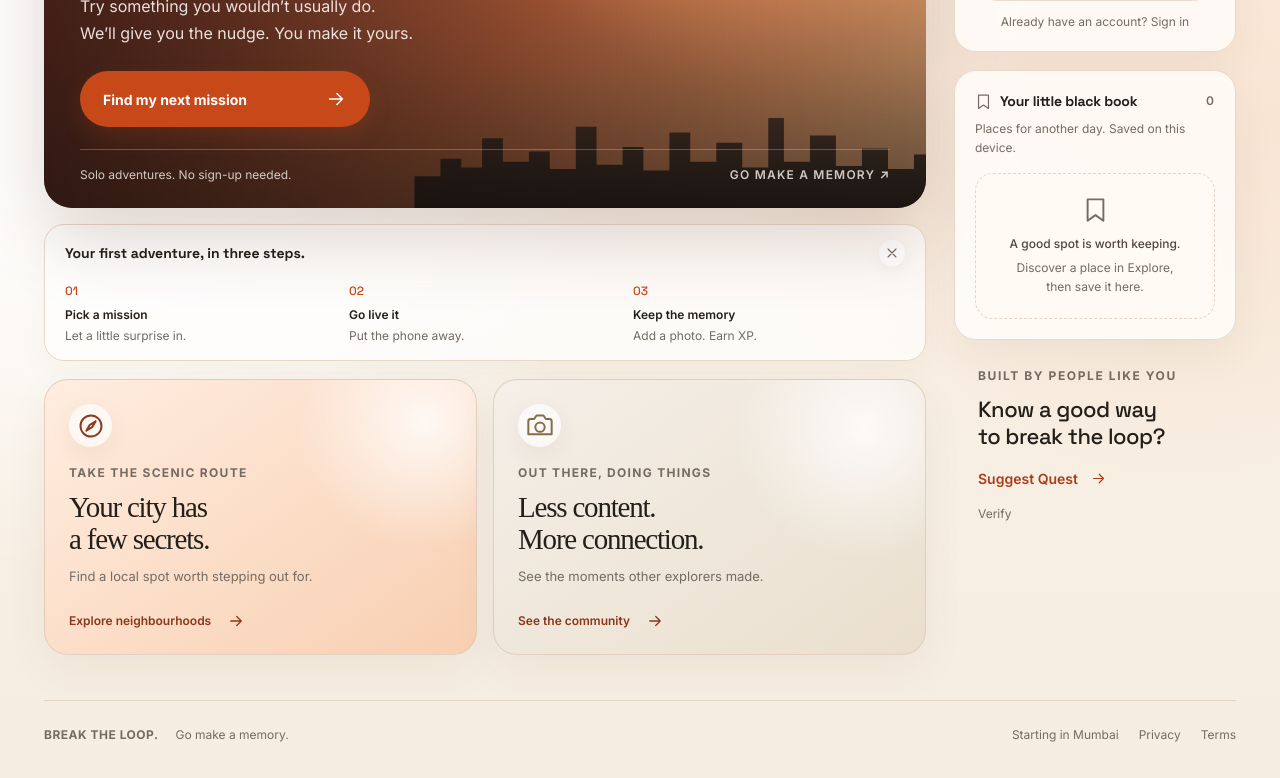
email OTP sign-in (main Auth Modal) › verifies a 6-digit code and signs the user in with their real email
The image size is (1280, 778).
(page scrolled)
Click the button "Verify". click: (1095, 508)
box: top-left (978, 493), bottom-right (1212, 523)
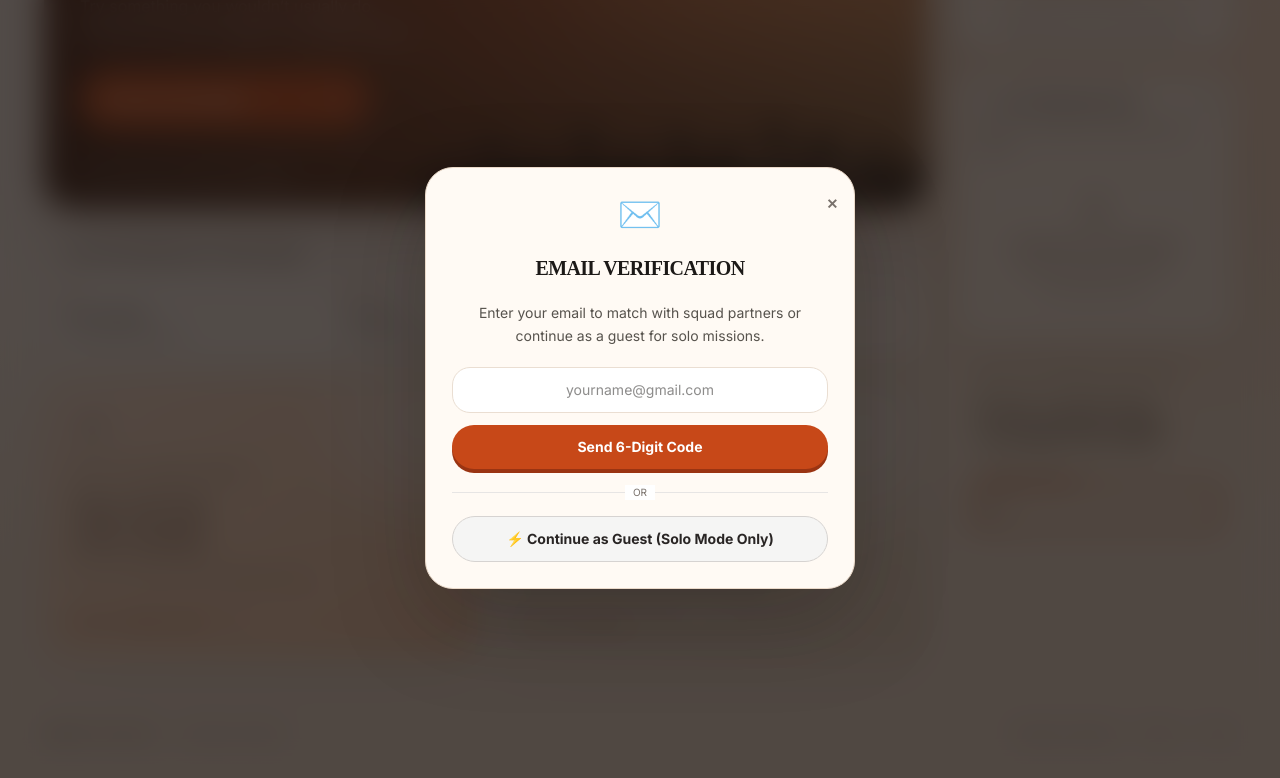
Result: the heading "EMAIL VERIFICATION" is shown at top-left (536, 257), bottom-right (745, 279)
Type "player@example.com" into the field with placeholder "yourname@gmail.com". click: (640, 390)
box: top-left (452, 367), bottom-right (828, 413)
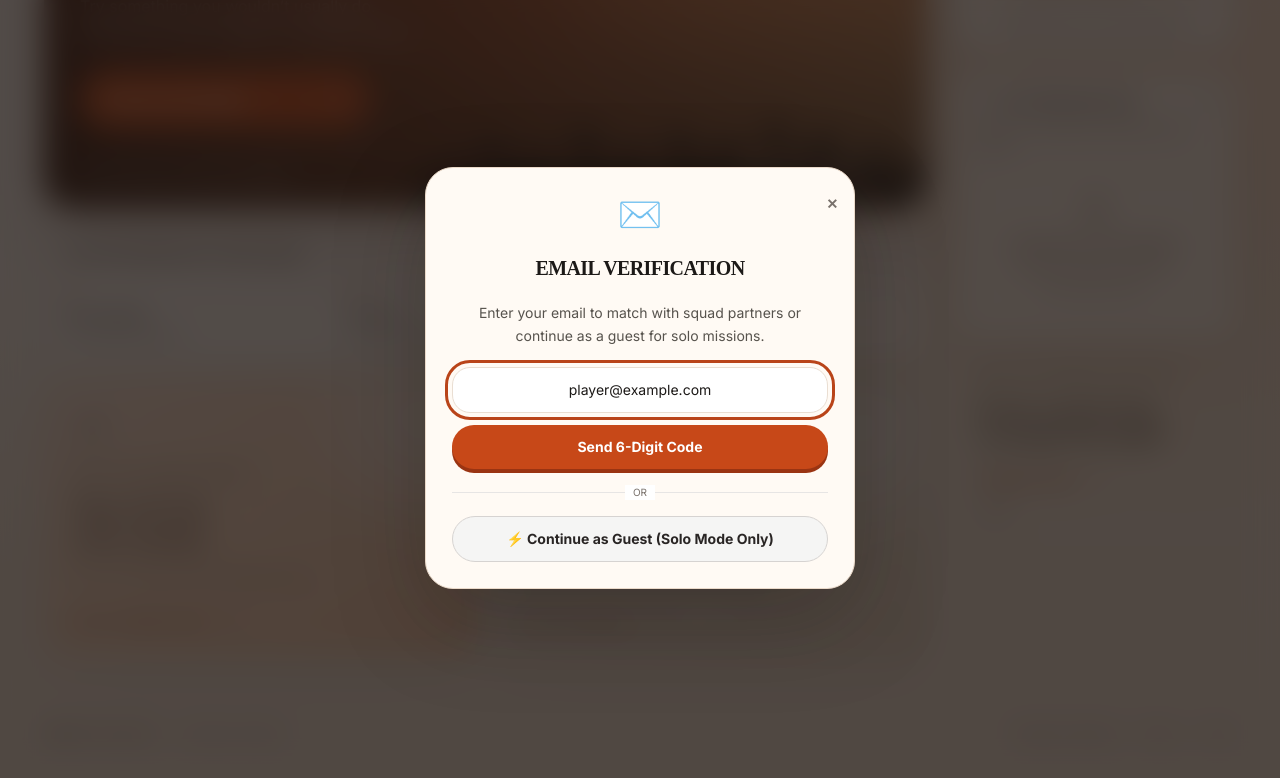
Click the button "Send 6-Digit Code". click: (640, 447)
box: top-left (452, 425), bottom-right (828, 469)
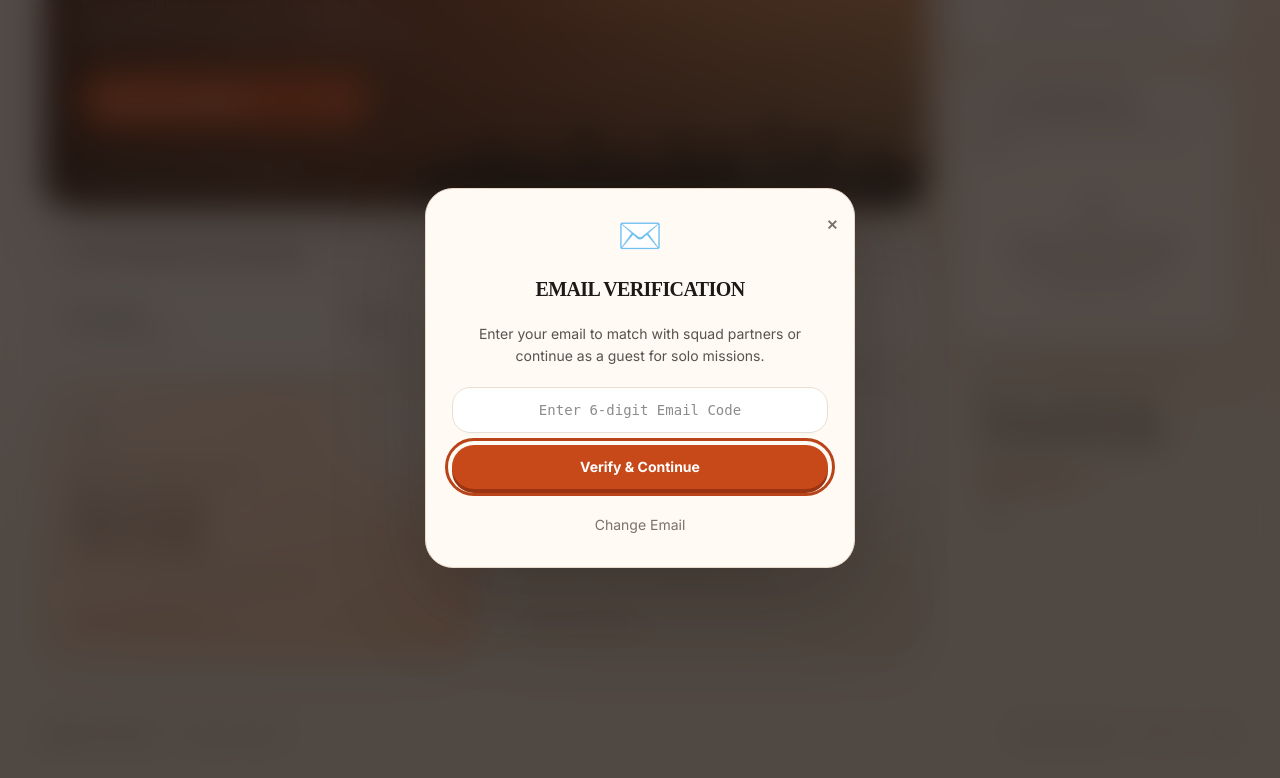
Type "123456" into the field with placeholder "Enter 6-digit Email Code". click: (640, 410)
box: top-left (452, 387), bottom-right (828, 433)
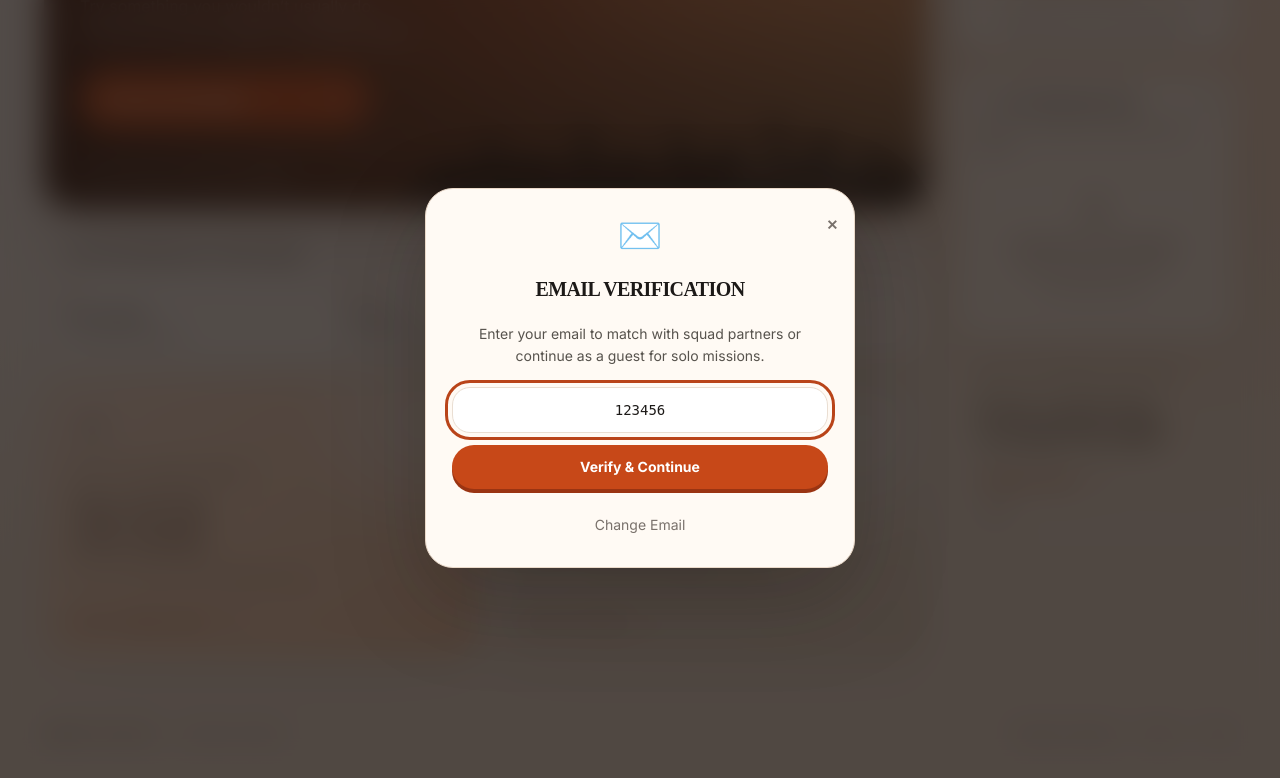
Click the button "Verify & Continue". click: (640, 467)
box: top-left (452, 445), bottom-right (828, 489)
(page scrolled)
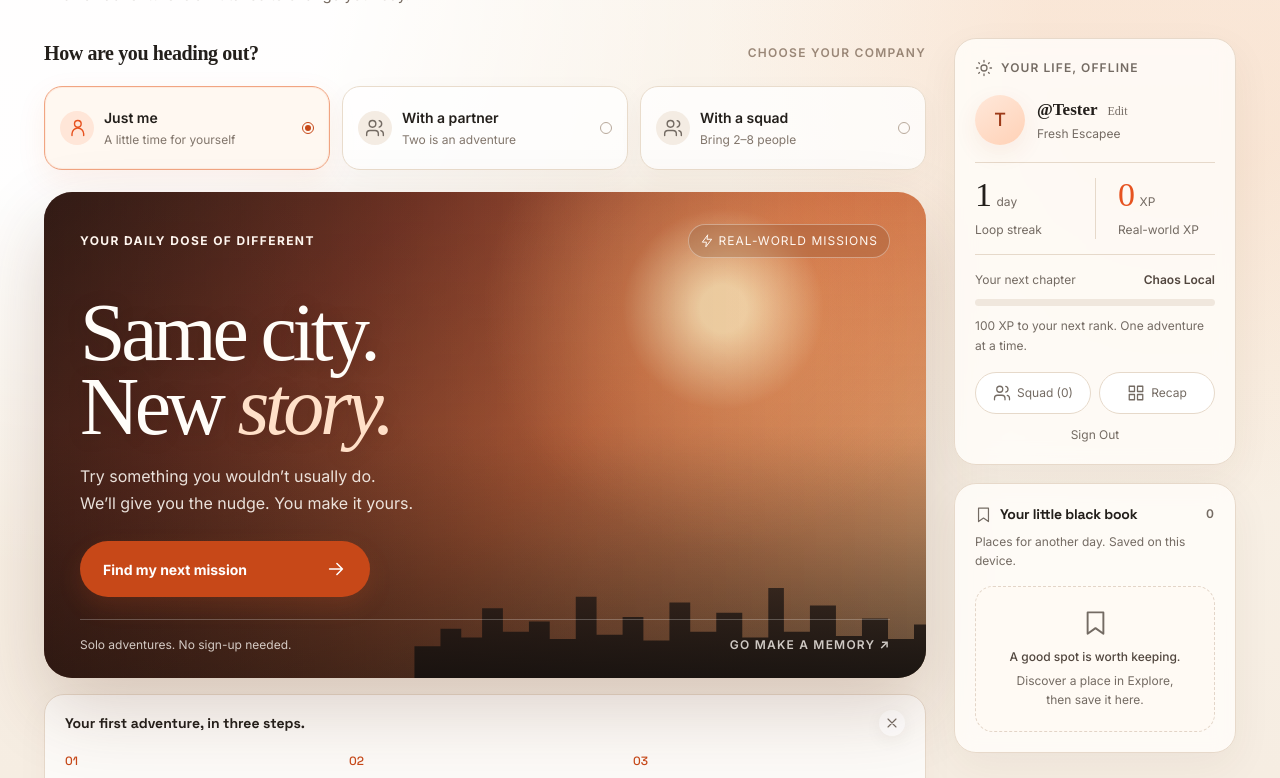
Result: the button "Sign Out" is shown at top-left (975, 414), bottom-right (1215, 444)
Result: the heading "EMAIL VERIFICATION" is gone
